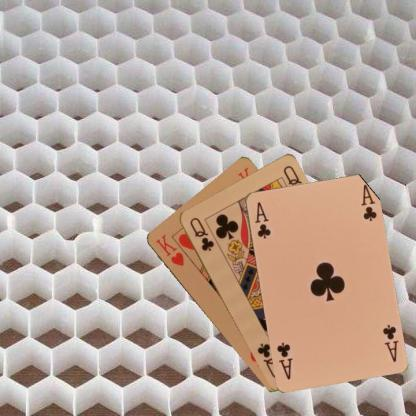Ac: (379, 322, 400, 363), (252, 199, 272, 240)
Kh: (152, 231, 185, 268)
Qc: (187, 214, 215, 252)
